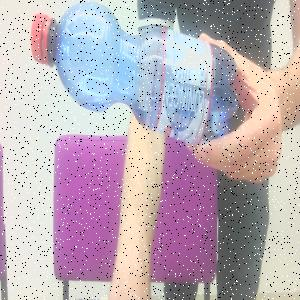Plastic-bottle: (31, 2, 241, 143)
